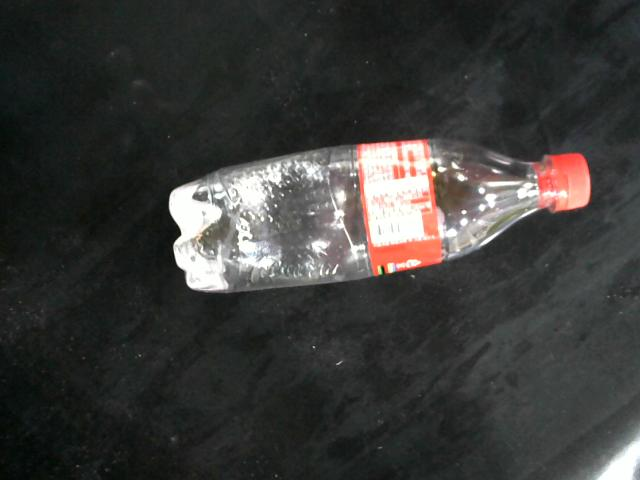bottle: (169, 139, 592, 294)
